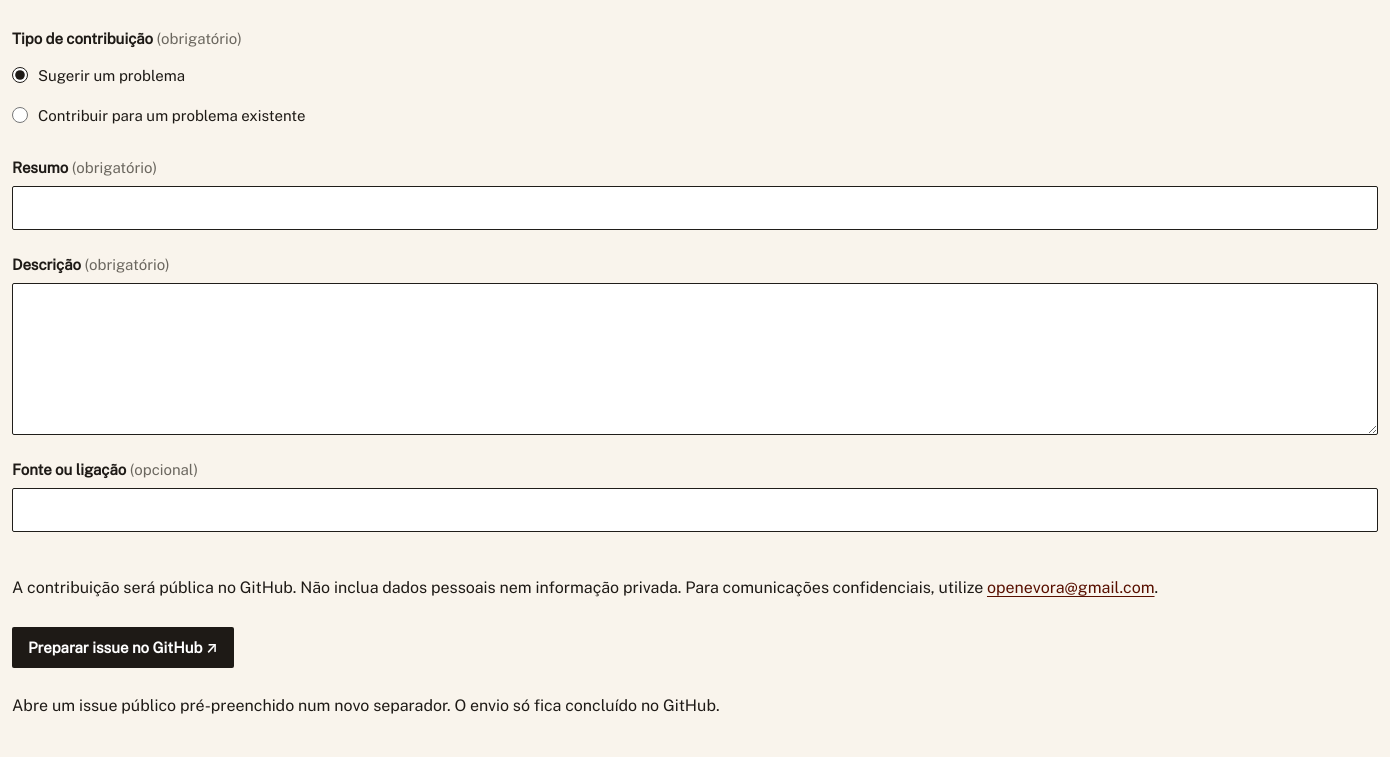
it: ContributionForm — validation › clears an inline error as soon as the field becomes valid
Click the button "Preparar issue no GitHub ↗".
click(123, 648)  # box [12,627,234,668]
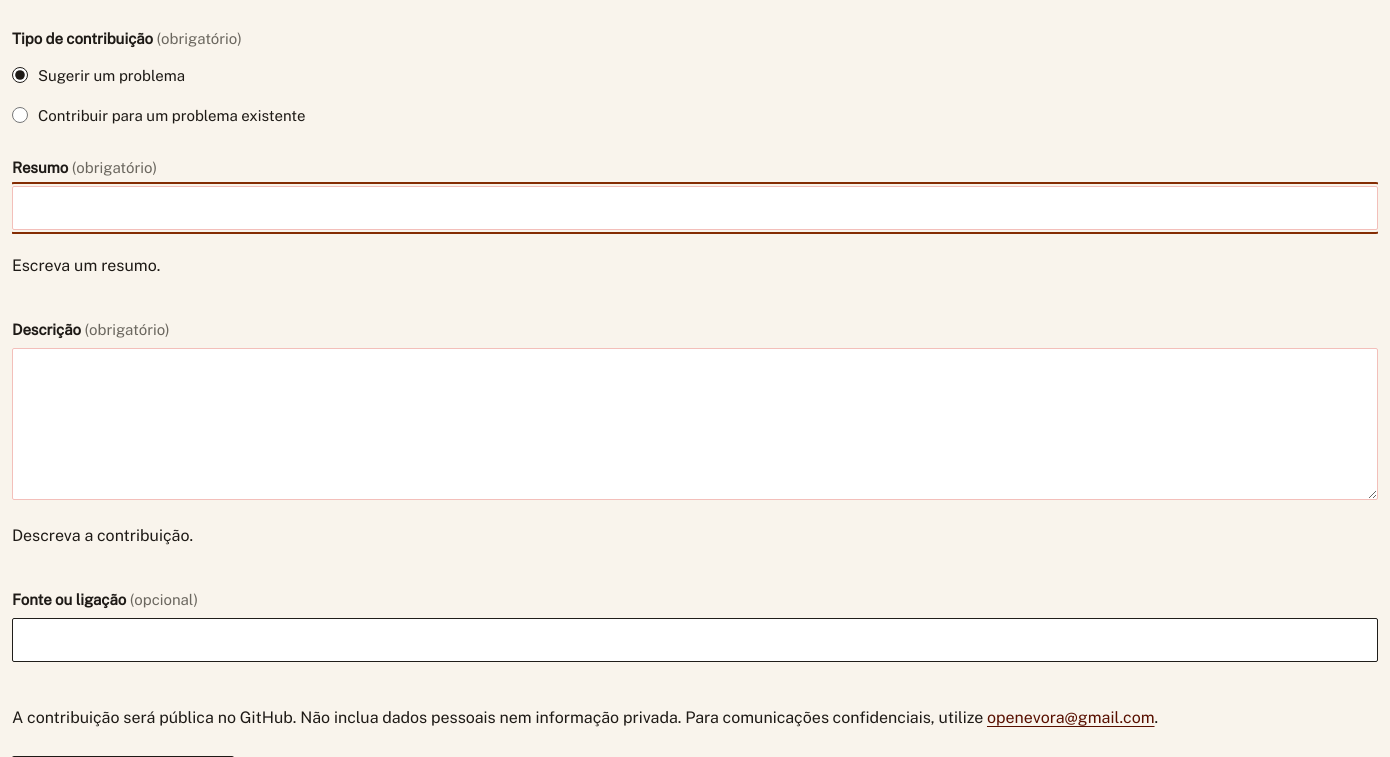
Type "Resumo" into the field labelled "Resumo (obrigatório)".
click(695, 208); type("Resumo")  # box [12,186,1378,230]
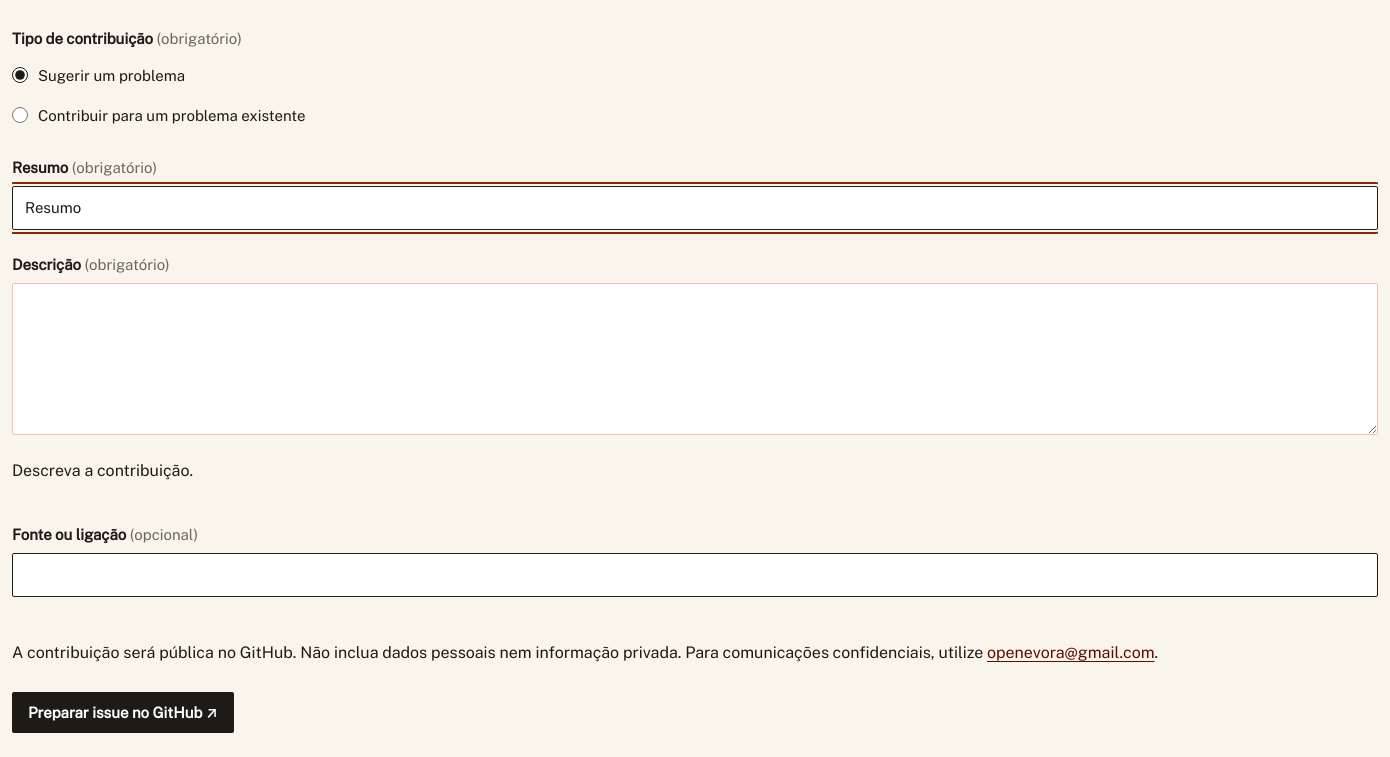
Now the text "Escreva um resumo." is gone
